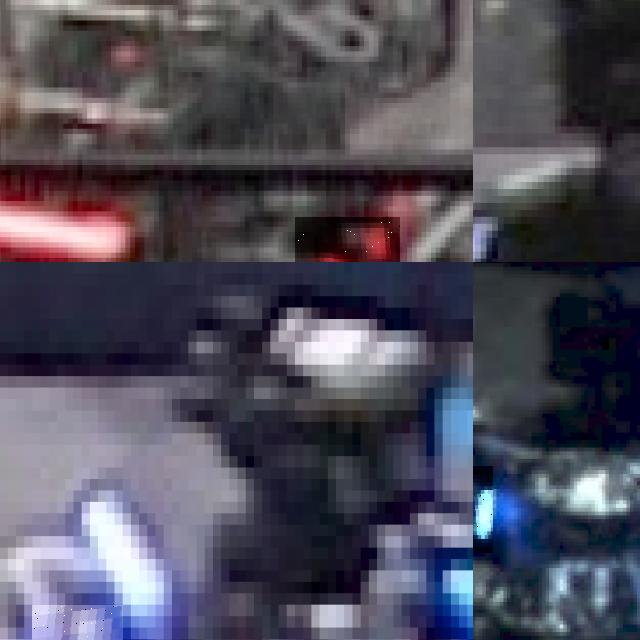B3: (32, 604, 122, 640)
Bs: (473, 466, 493, 552)
R2: (295, 216, 400, 262)
